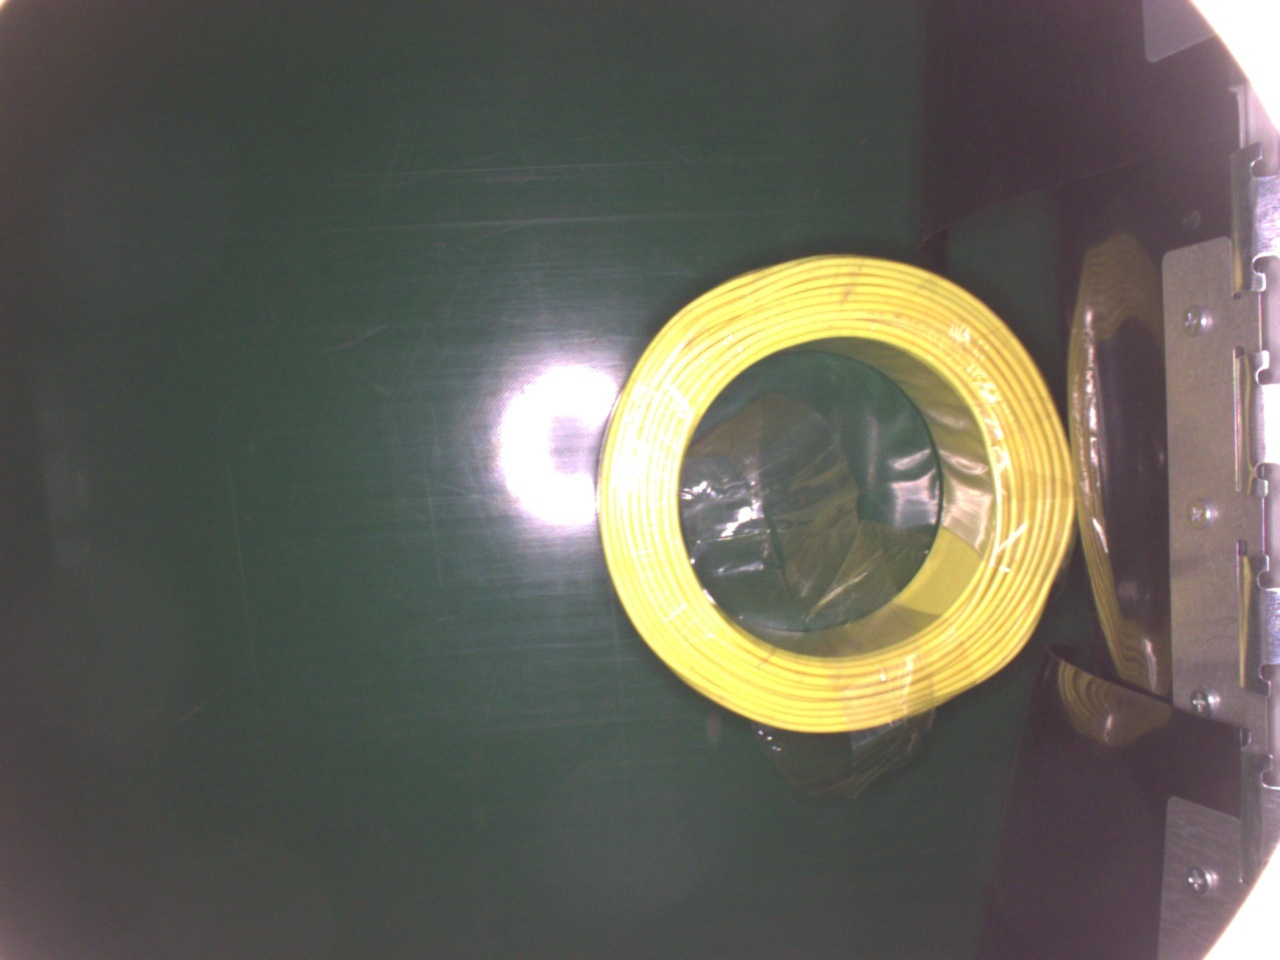yellow: (588, 250, 1079, 741)
